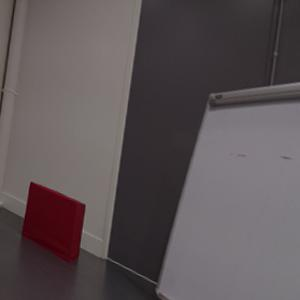big: (157, 83, 300, 300)
medium: (18, 184, 86, 263)
